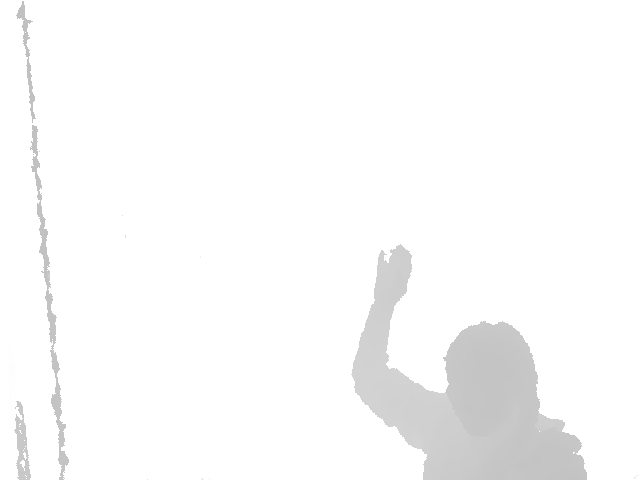hand: (373, 243, 413, 309)
head: (445, 322, 540, 436)
person: (350, 242, 589, 480)
